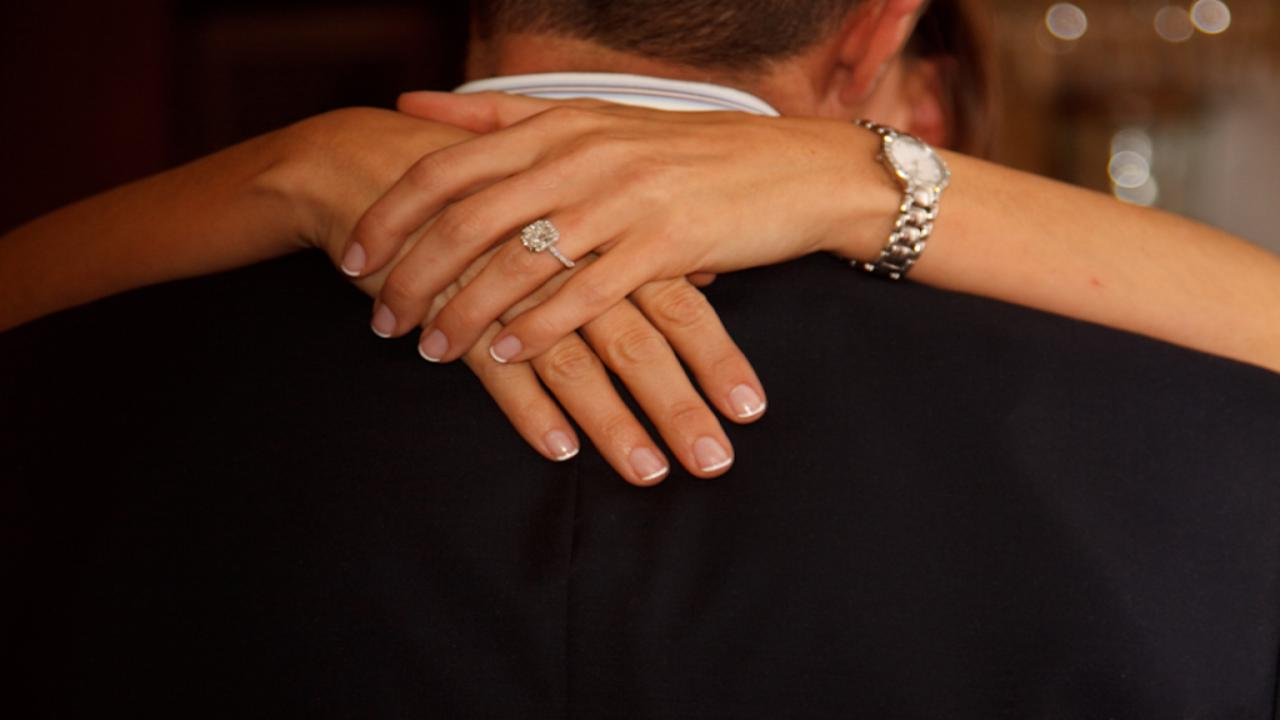ring: (515, 218, 580, 274)
